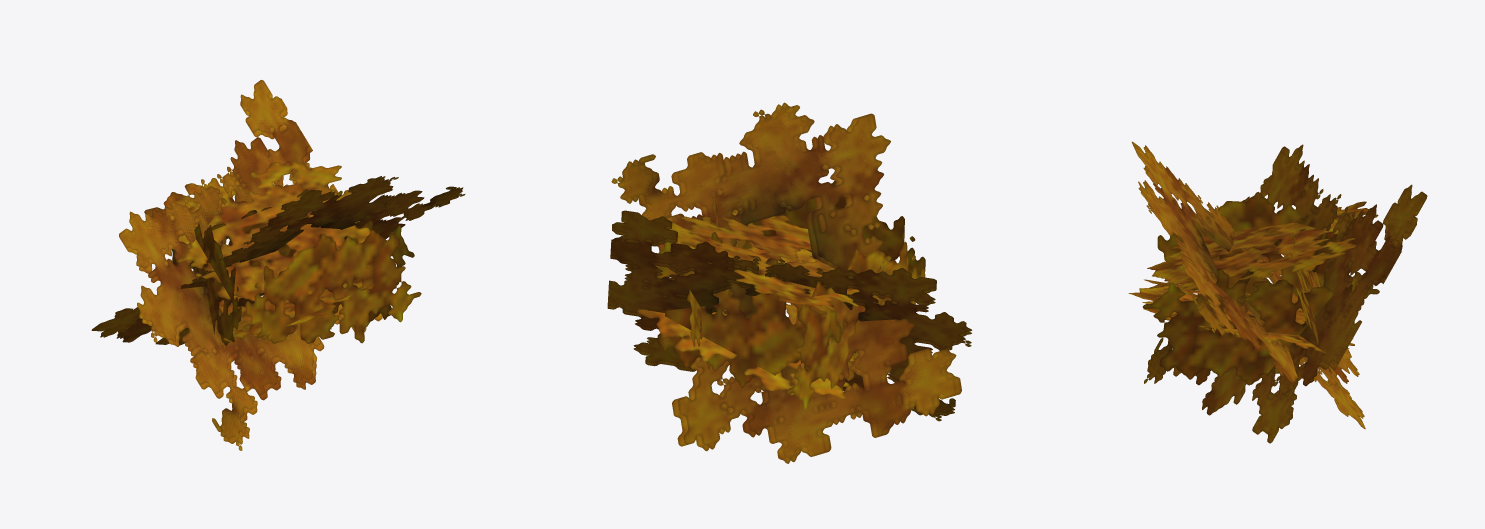
Rendered from maple_leaves_yellowish_slab_upper.obj.
3 views of the same model, side by side, from view 1: azimuth 30°, elevation 25°; view 2: azimuth 150°, elevation 25°; view 3: azimuth 270°, elevation 25° (orthographic). The views are drawn at different scales.
Parts seen in each view (by area): view 1: cube; view 2: cube; view 3: cube.
Boxes of the visible parts, bbox=[...] form: cube: bbox=[91, 80, 465, 450]; cube: bbox=[607, 102, 972, 463]; cube: bbox=[1128, 141, 1427, 443].
Bounding box in the file's own units: 2.99 × 2.22 × 2.1.
